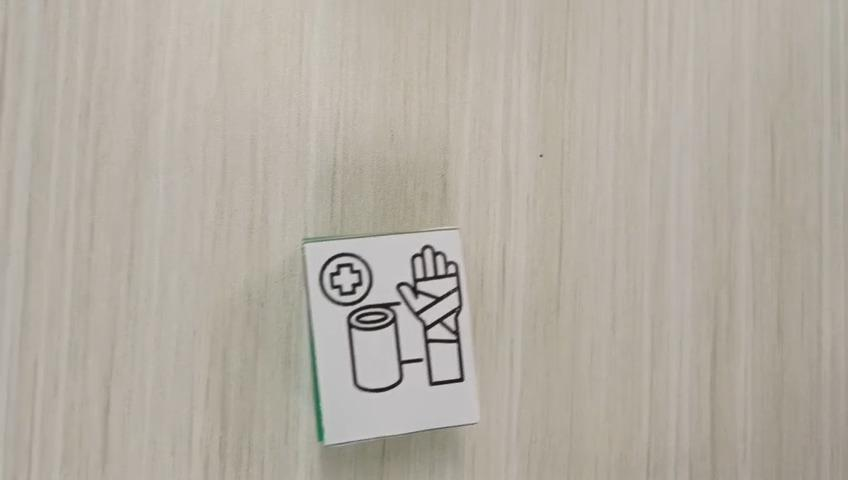Bandages: (301, 225, 480, 445)
